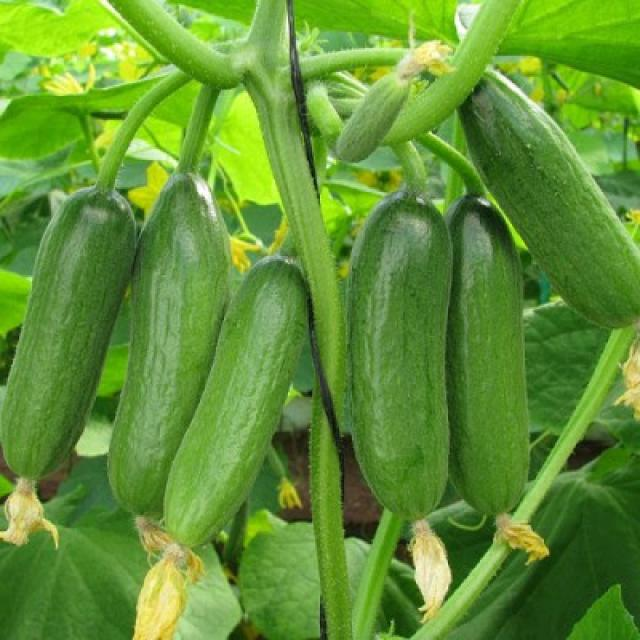cucumber: (457, 72, 640, 329), (106, 168, 238, 518), (161, 252, 307, 547), (0, 182, 136, 477), (340, 193, 452, 520), (448, 191, 532, 516)
